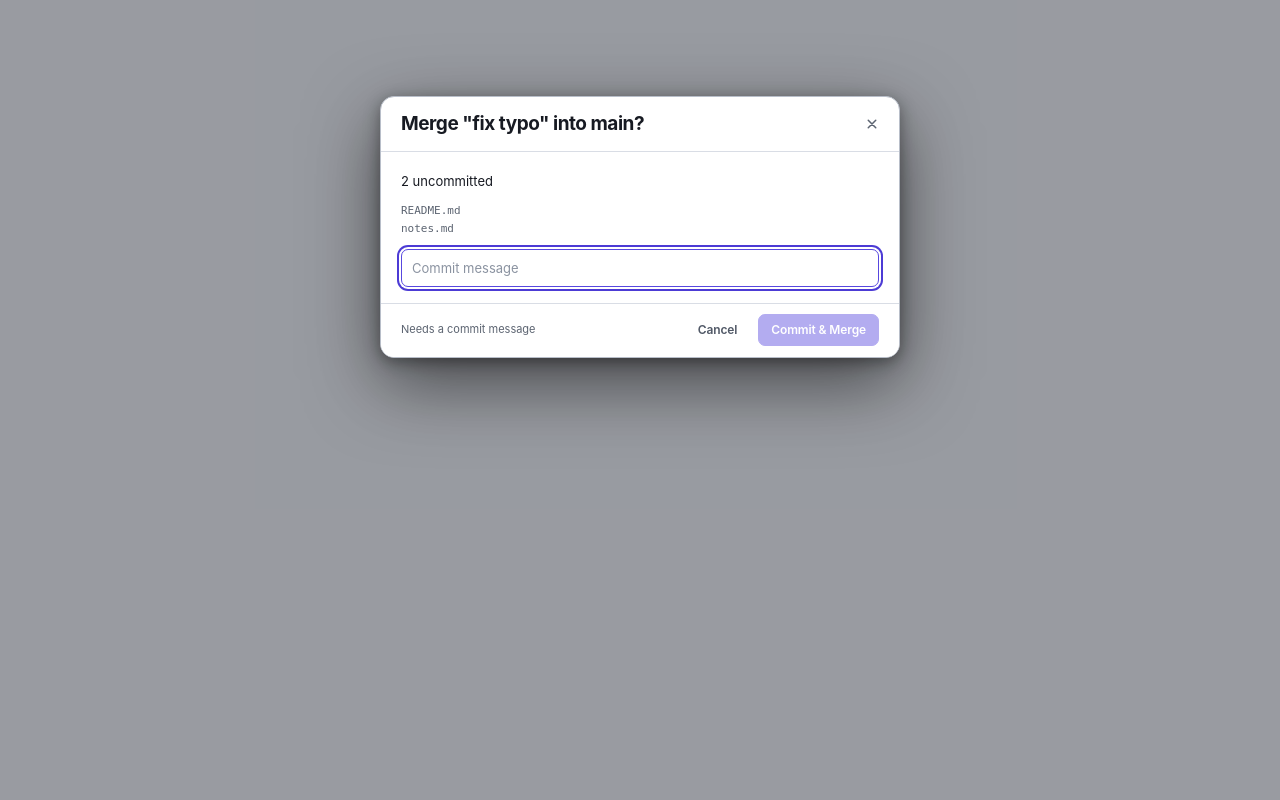
Test: a worktree with uncommitted work › merges nothing when the commit is refused, and says why
The width and height of the screenshot is (1280, 800).
Step 1. Type "Add usage" into the text box labelled "Commit message" → (640, 268), box x1=401 y1=249 x2=879 y2=287
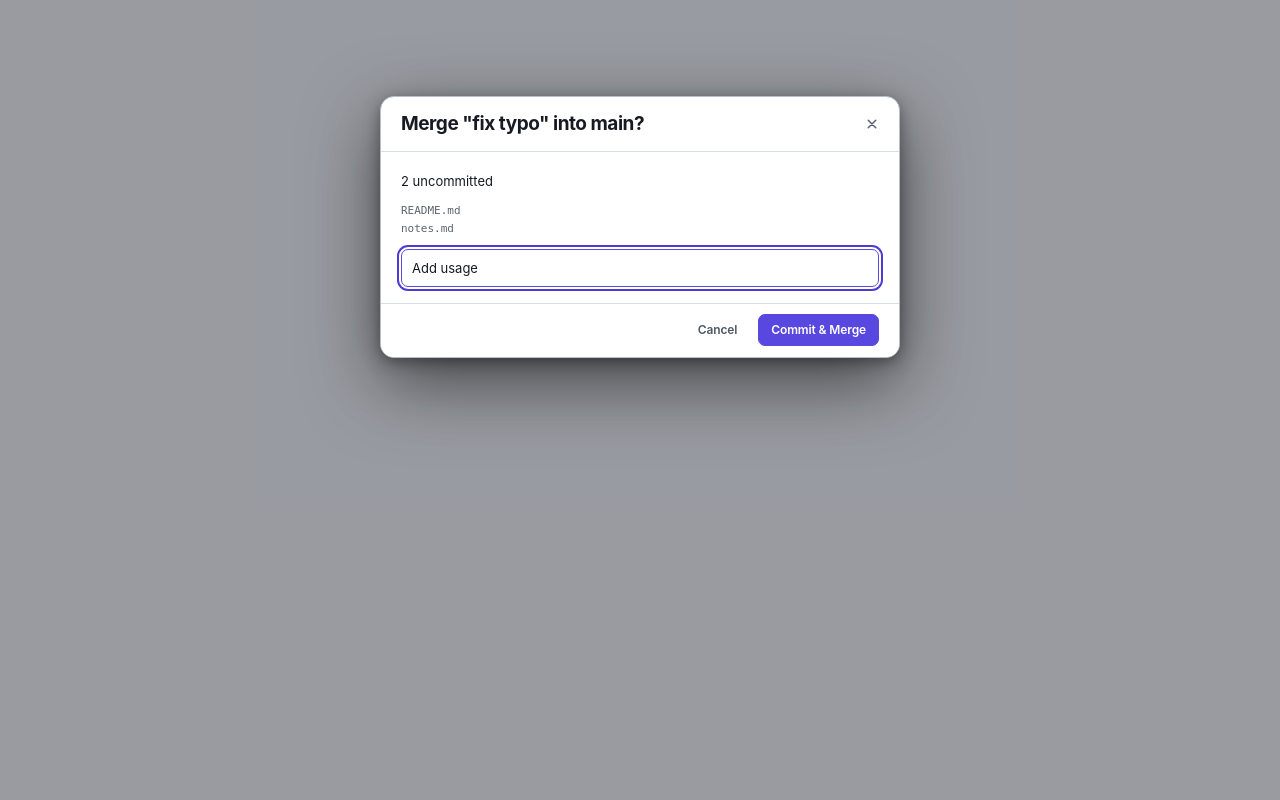
Step 2. Click the button "Commit & Merge" → (819, 330), box x1=758 y1=314 x2=879 y2=346
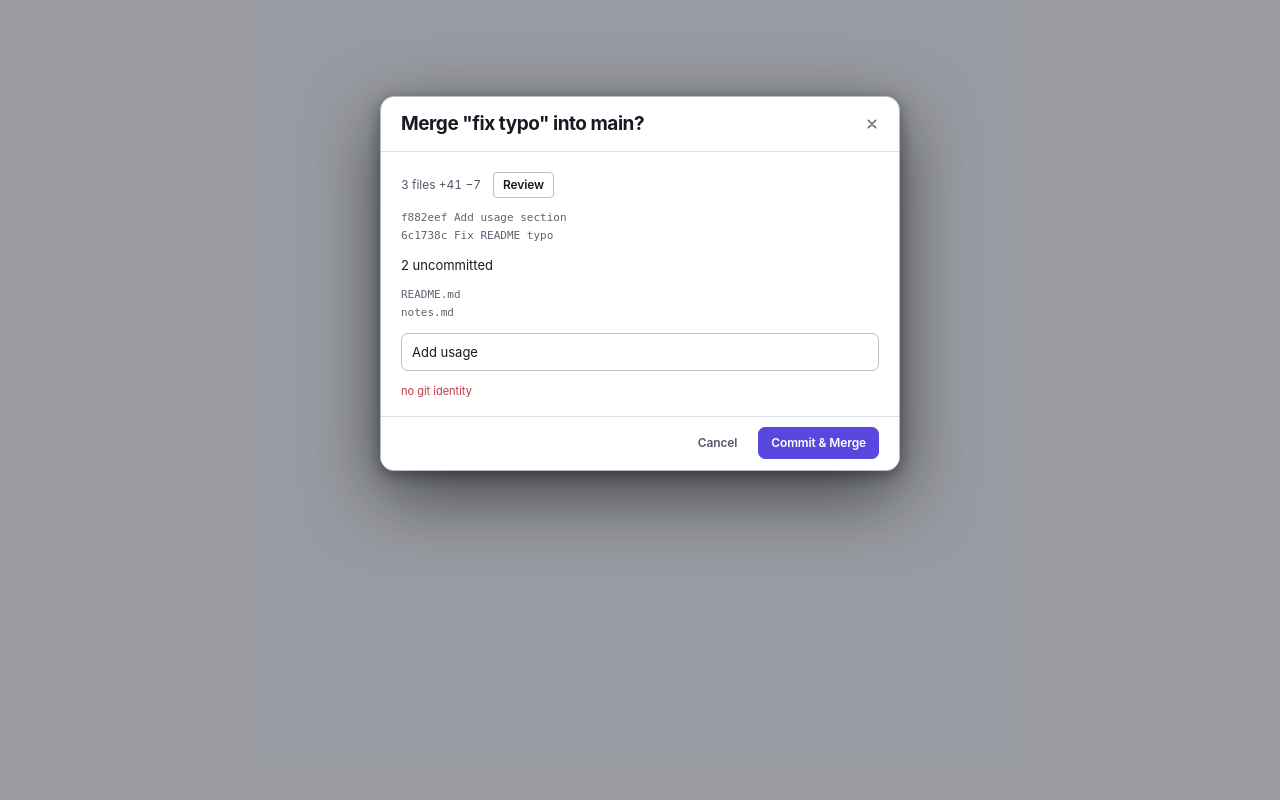
Check: the message reads "no git identity", box x1=401 y1=384 x2=472 y2=398
